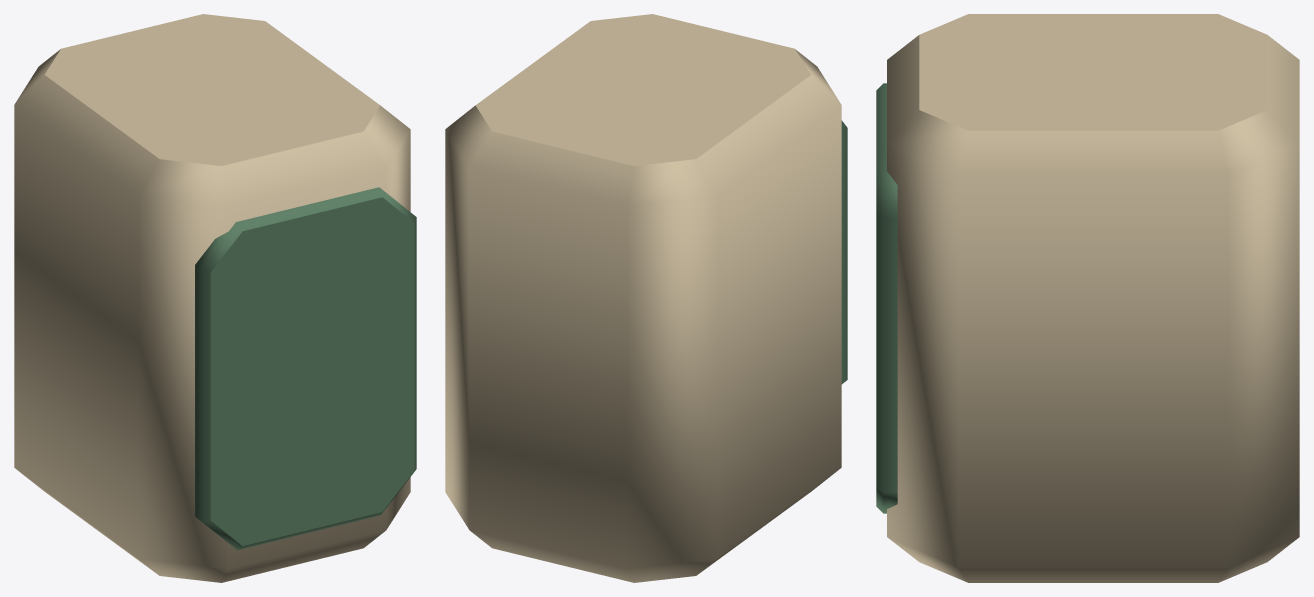
3 views of the same model, side by side, from view 1: azimuth 30°, elevation 25°; view 2: azimuth 150°, elevation 25°; view 3: azimuth 270°, elevation 25° (orthographic). The views are drawn at different scales.
Parts seen in each view (by area): view 1: t200_o2; view 2: t200_o2; view 3: t200_o2.
Part boxes in pixels (bbox=[...]): t200_o2: bbox=[14, 14, 416, 582]; t200_o2: bbox=[445, 14, 847, 582]; t200_o2: bbox=[876, 14, 1299, 582].
Size of the model in its own units: 1.9 by 2.78 by 2.36.
